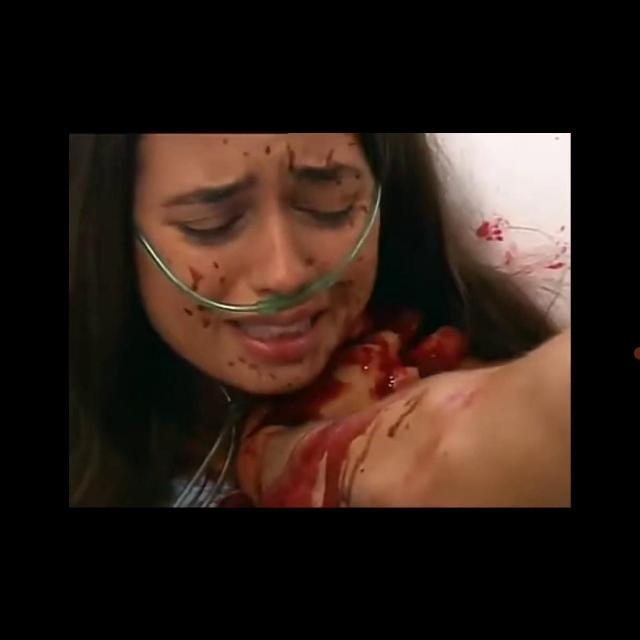blood: (237, 325, 468, 506), (153, 278, 370, 393), (222, 133, 367, 170), (171, 259, 259, 303), (477, 215, 509, 239), (545, 251, 571, 269)
